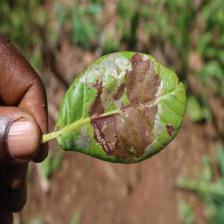leaf miner: (40, 50, 187, 164)
